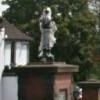Statue: (27, 4, 67, 70)
